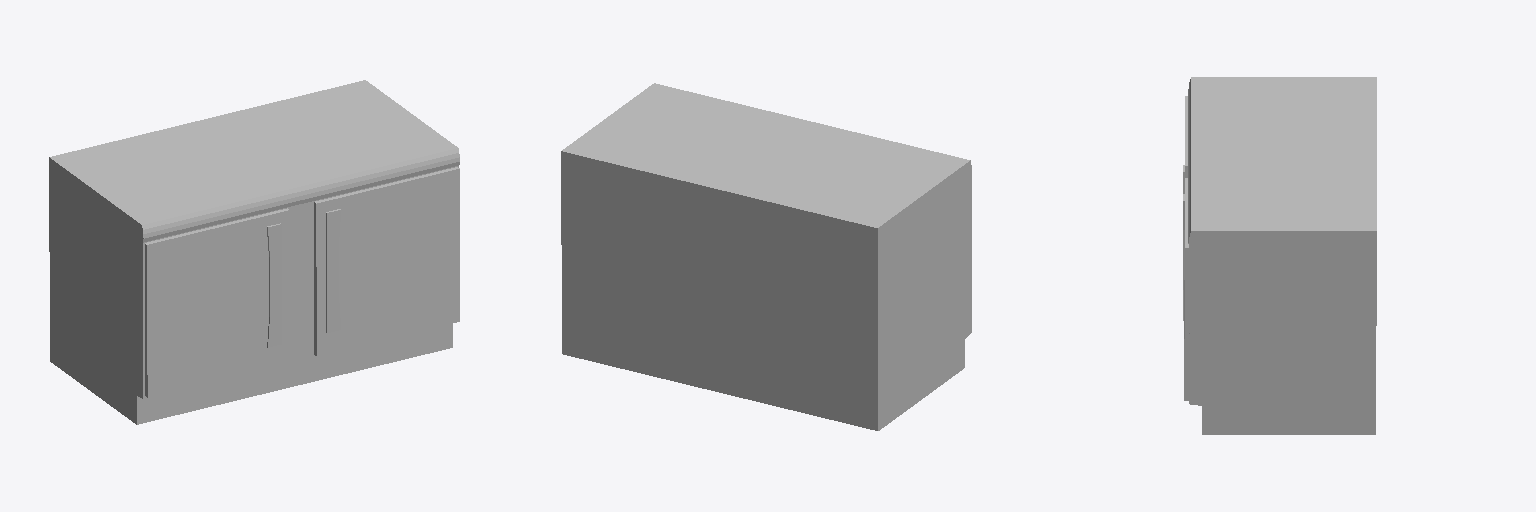
The model's file is podwojna_szafka.obj.
3 views of the same model, side by side, from view 1: azimuth 30°, elevation 25°; view 2: azimuth 150°, elevation 25°; view 3: azimuth 270°, elevation 25° (orthographic).
Parts seen in each view (by area): view 1: caninet_5; view 2: caninet_5; view 3: caninet_5.
Boxes of the visible parts, x1,y1,x2,y2 form: caninet_5: [49, 80, 459, 424]; caninet_5: [561, 83, 971, 430]; caninet_5: [1183, 77, 1376, 434].
Bounding box in the file's own units: 12.13 × 7.46 × 6.46.